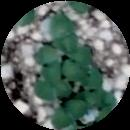Basil: (54, 94, 86, 127), (34, 78, 72, 101), (68, 68, 105, 90), (67, 42, 93, 70), (57, 17, 79, 48), (86, 85, 112, 111), (37, 50, 62, 77)
